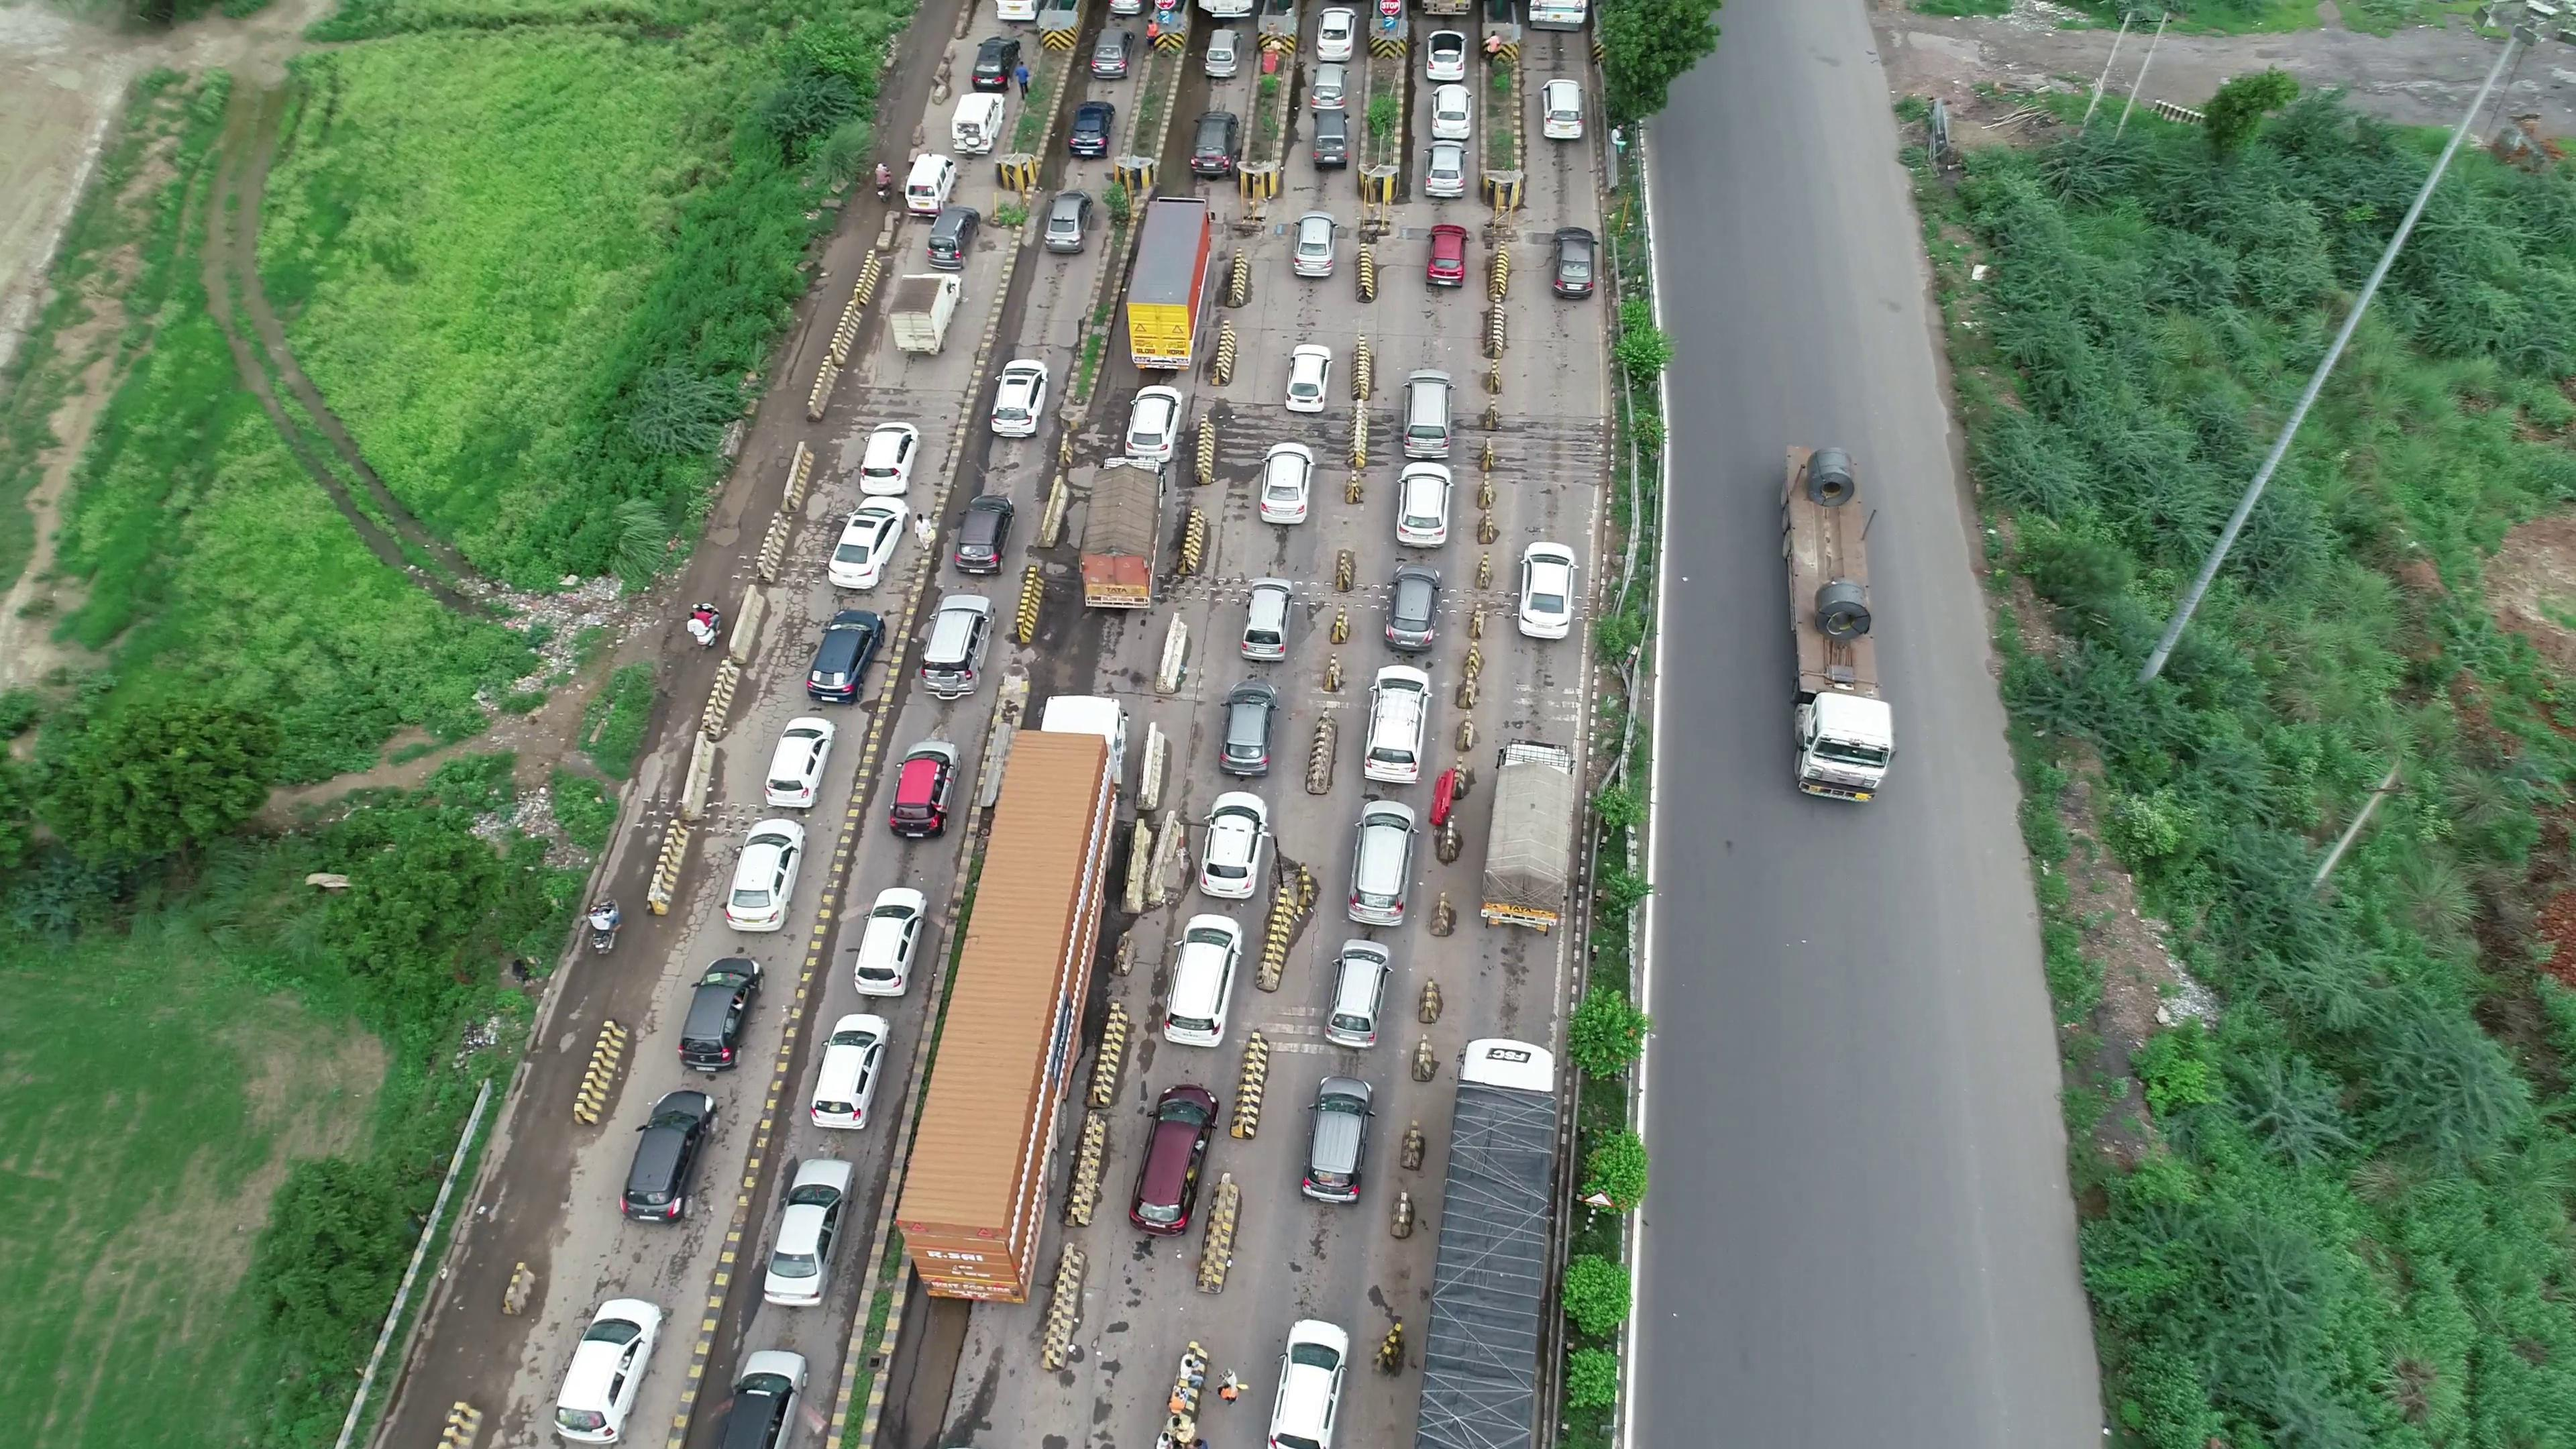Alligator_cracks: (748, 602, 812, 731)
